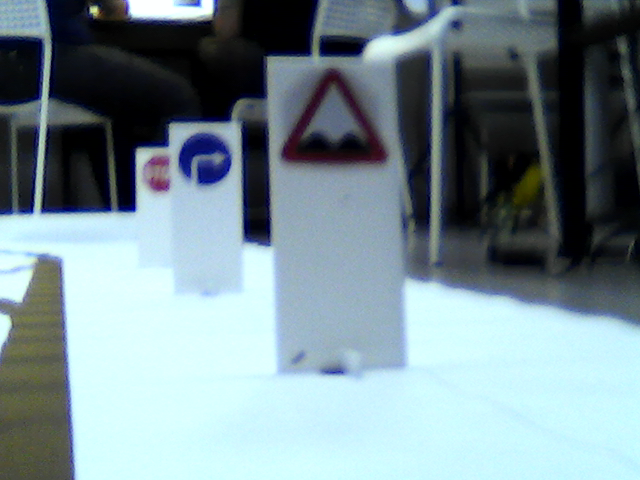Nerov: (282, 62, 383, 163)
Right: (179, 133, 230, 185)
Stop: (147, 156, 171, 190)
